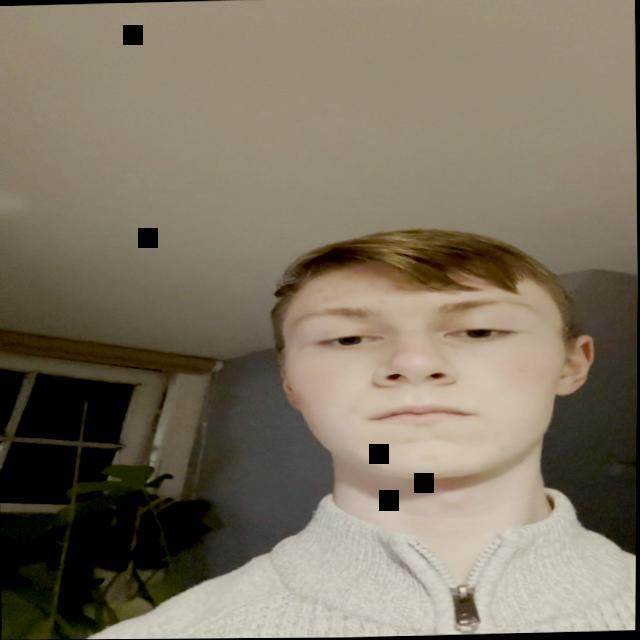NO-Mask: (285, 252, 578, 485)
